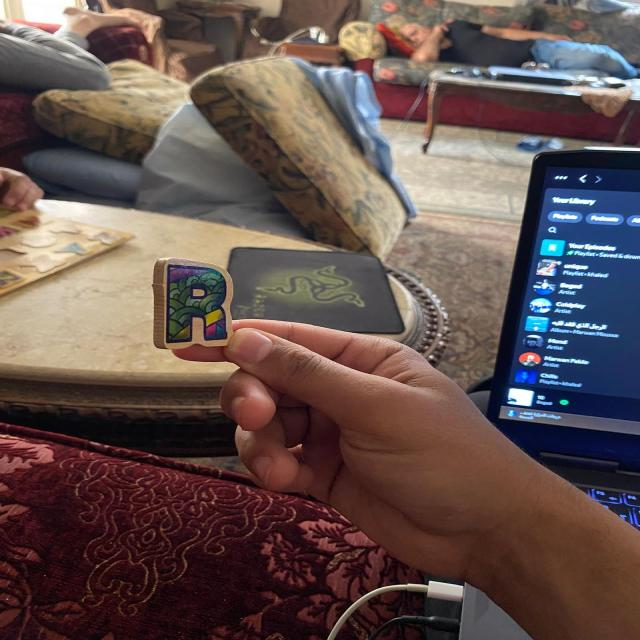R: (153, 258, 233, 348)
